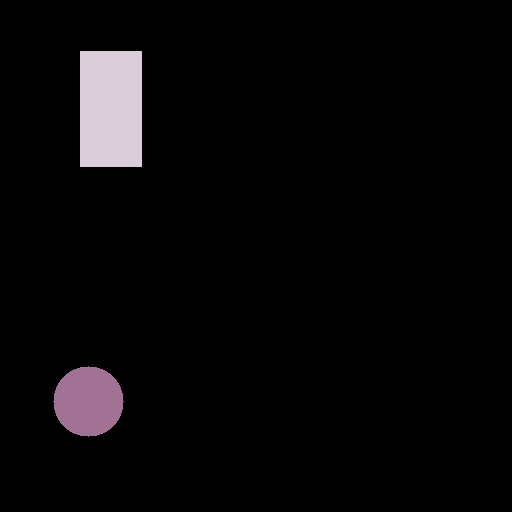circle: (53, 366, 123, 436)
rectangle: (80, 51, 141, 166)
